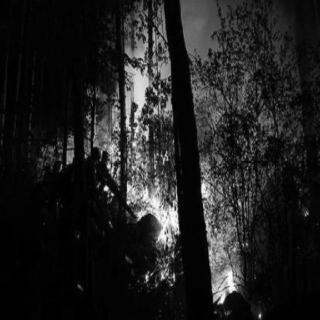Fire: (127, 167, 179, 246)
